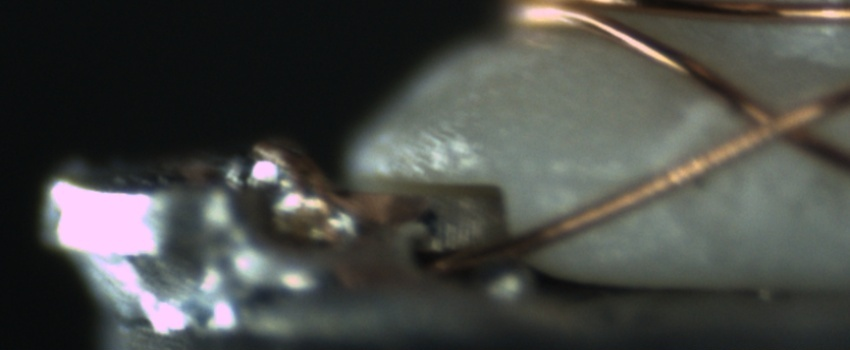CL: (710, 76, 835, 161)
TE: (251, 135, 374, 225)
